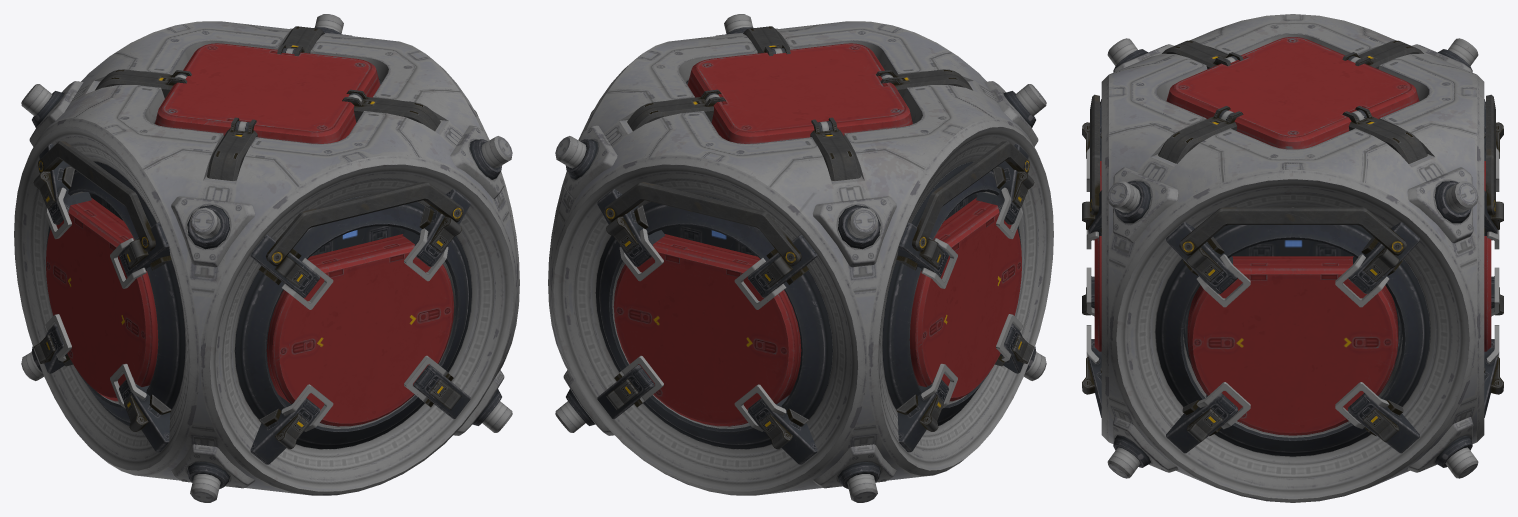
Rendered from LootBox_01.fbx.
3 views of the same model, side by side, from view 1: azimuth 30°, elevation 25°; view 2: azimuth 150°, elevation 25°; view 3: azimuth 270°, elevation 25° (orthographic).
Parts seen in each view (by area): view 1: LootBox_01; view 2: LootBox_01; view 3: LootBox_01.
Boxes of the visible parts, x1,y1,x2,y2 form: LootBox_01: (14,14,519,502); LootBox_01: (548,14,1053,502); LootBox_01: (1082,14,1503,502).
Size of the model in its own units: 130 by 116 by 130.
